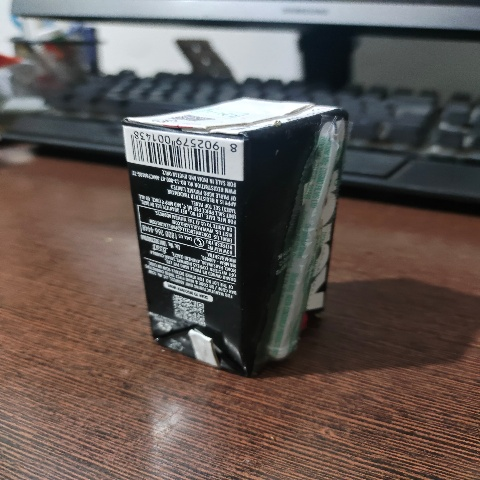appy: (113, 87, 353, 393)
